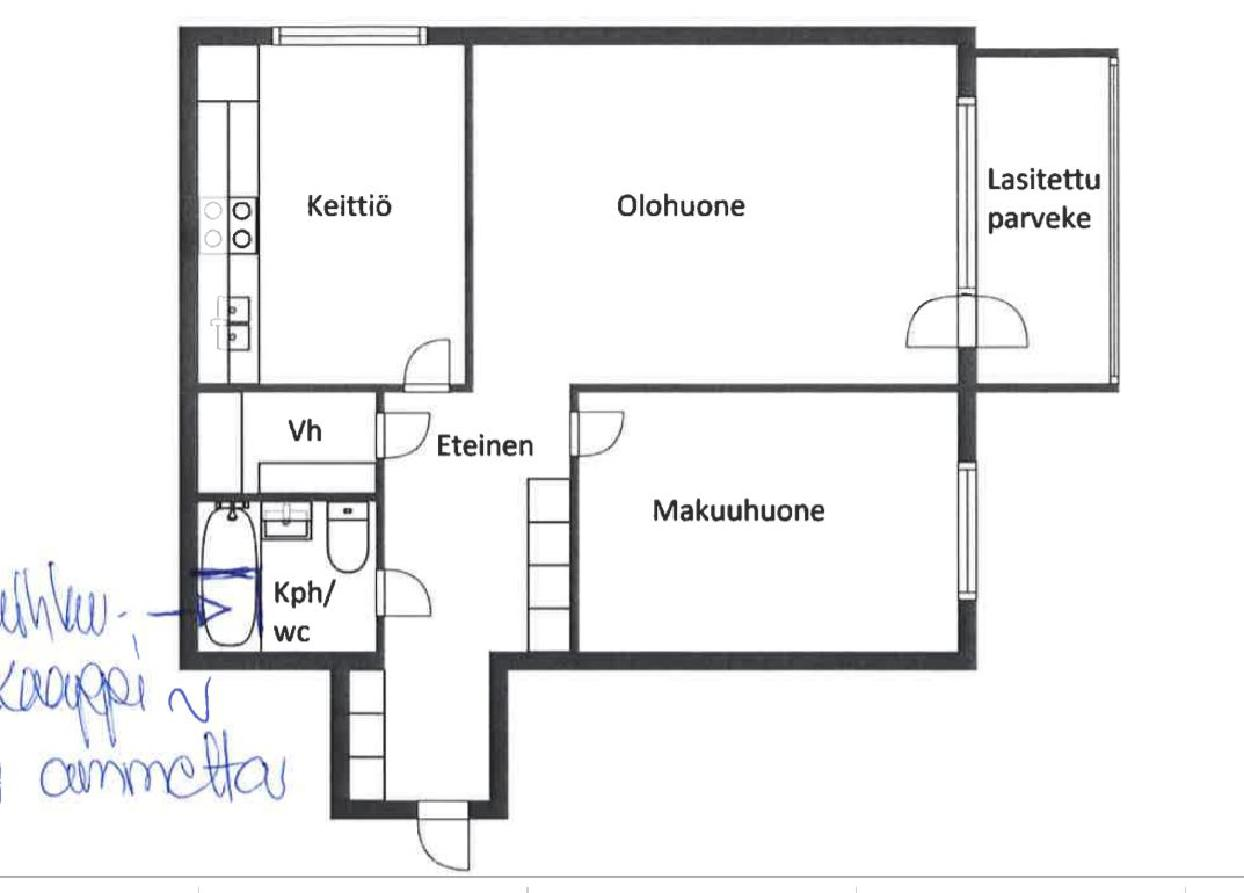door: (899, 297, 1029, 363), (413, 798, 476, 874), (372, 566, 434, 623), (402, 335, 454, 392), (570, 411, 629, 460), (373, 412, 434, 458)
window: (957, 97, 977, 292), (269, 25, 426, 46), (959, 465, 980, 602)
zone: (348, 46, 952, 800), (580, 391, 958, 654), (199, 46, 463, 384), (977, 58, 1104, 382), (194, 502, 375, 652), (197, 390, 373, 497)
